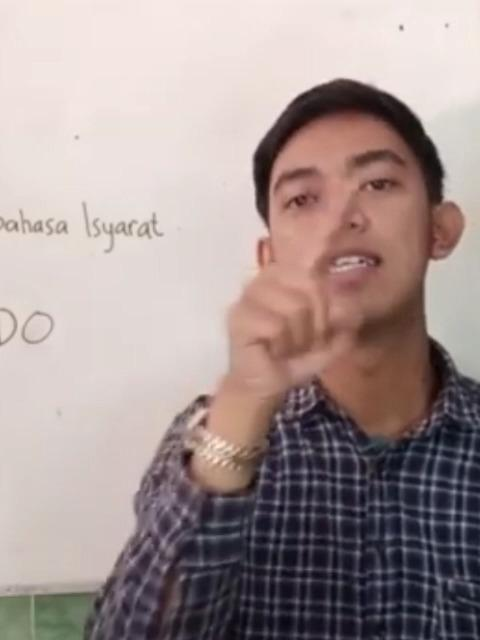Z: (226, 175, 378, 397)
